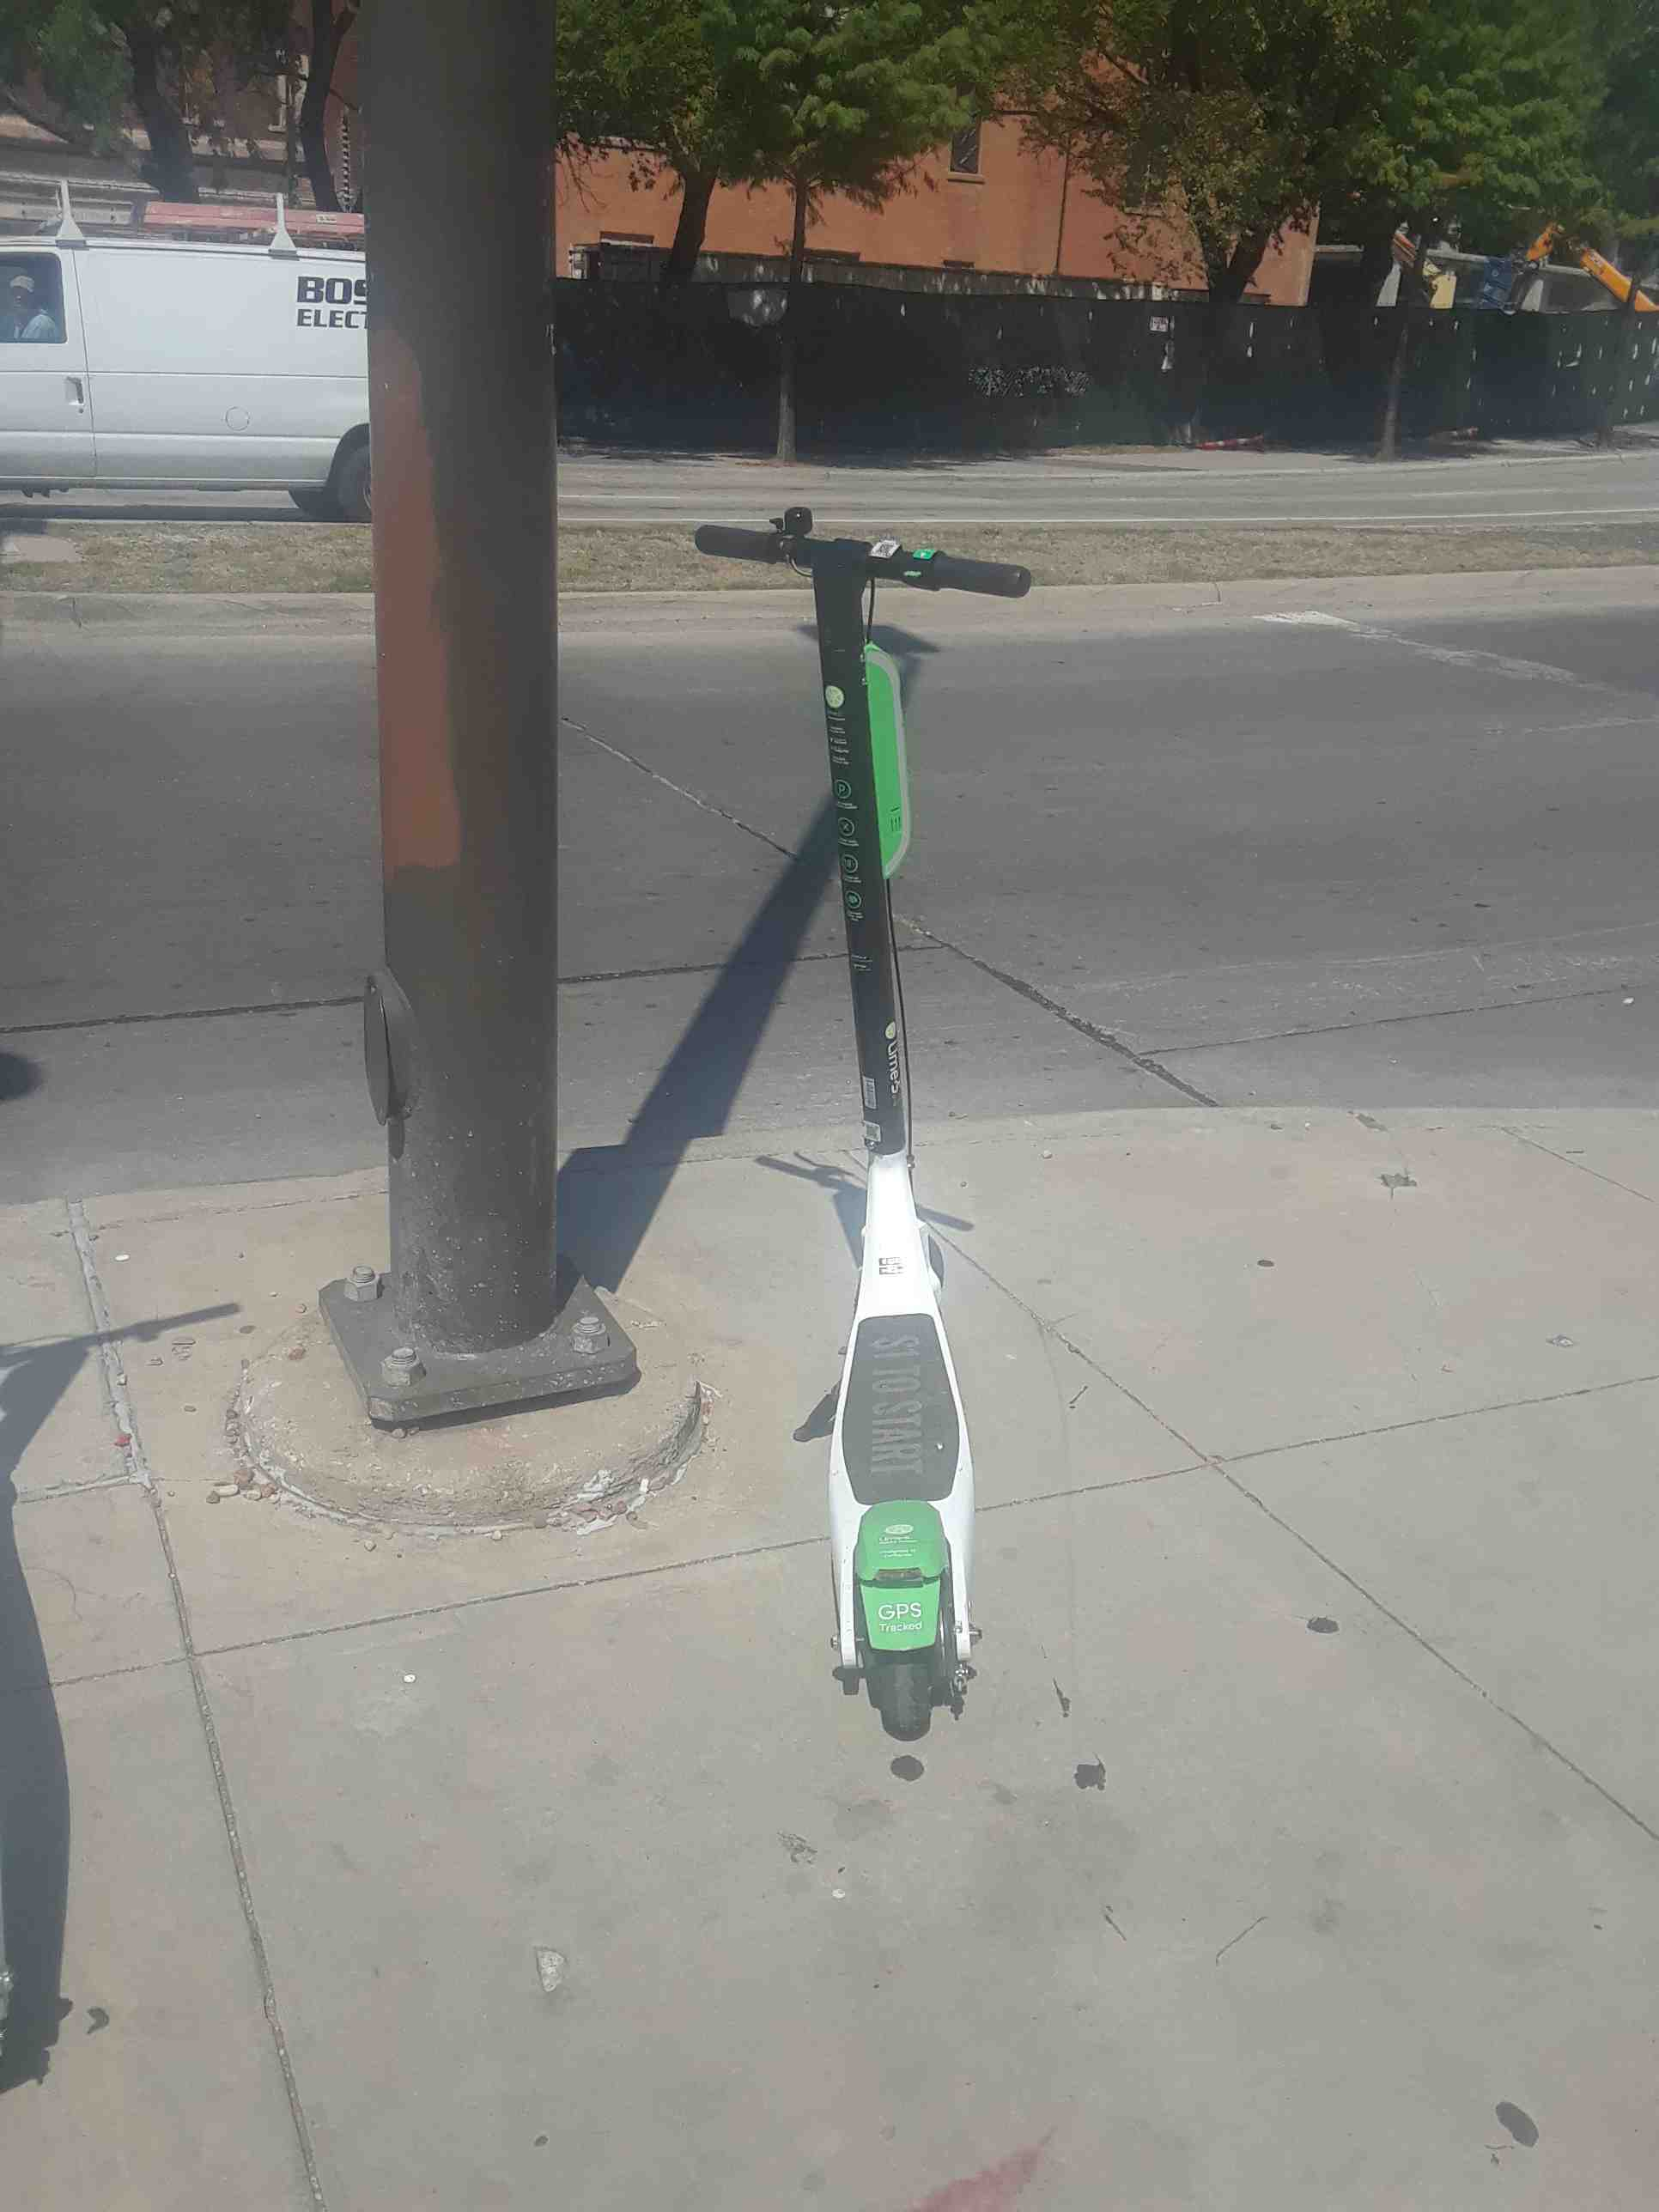scooter: (556, 517, 1075, 1733)
